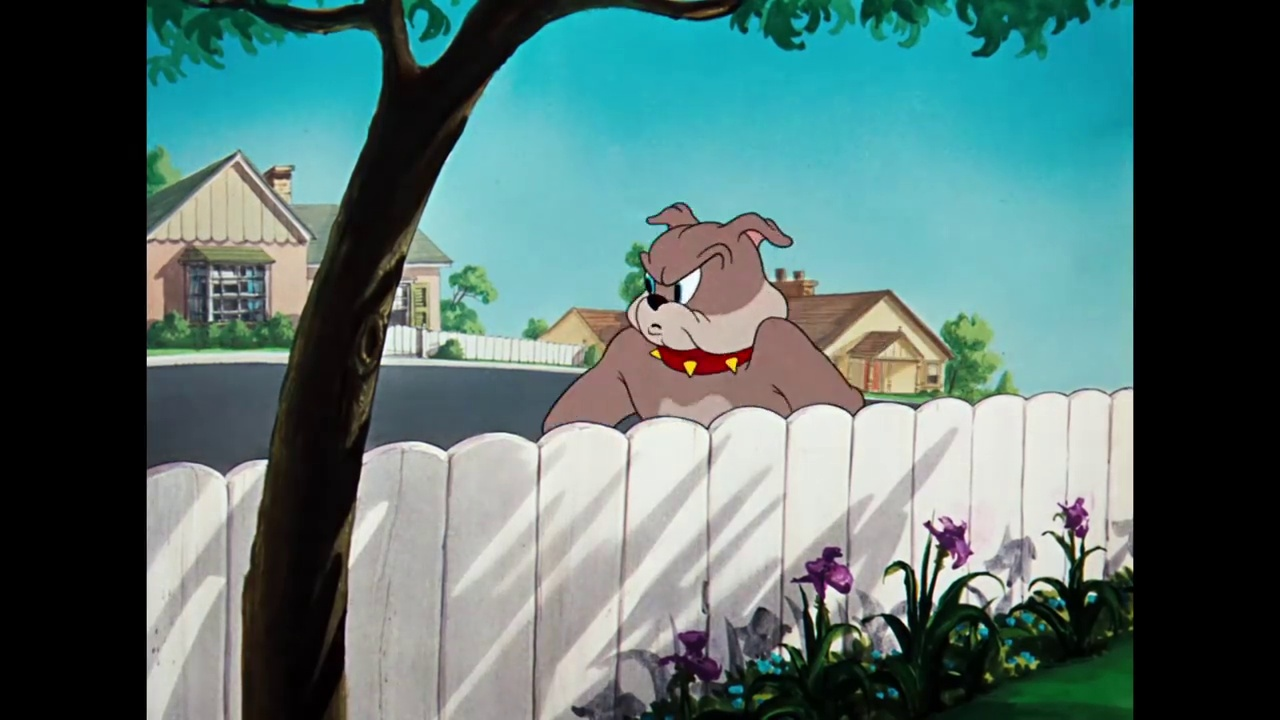spike: (623, 202, 793, 381)
